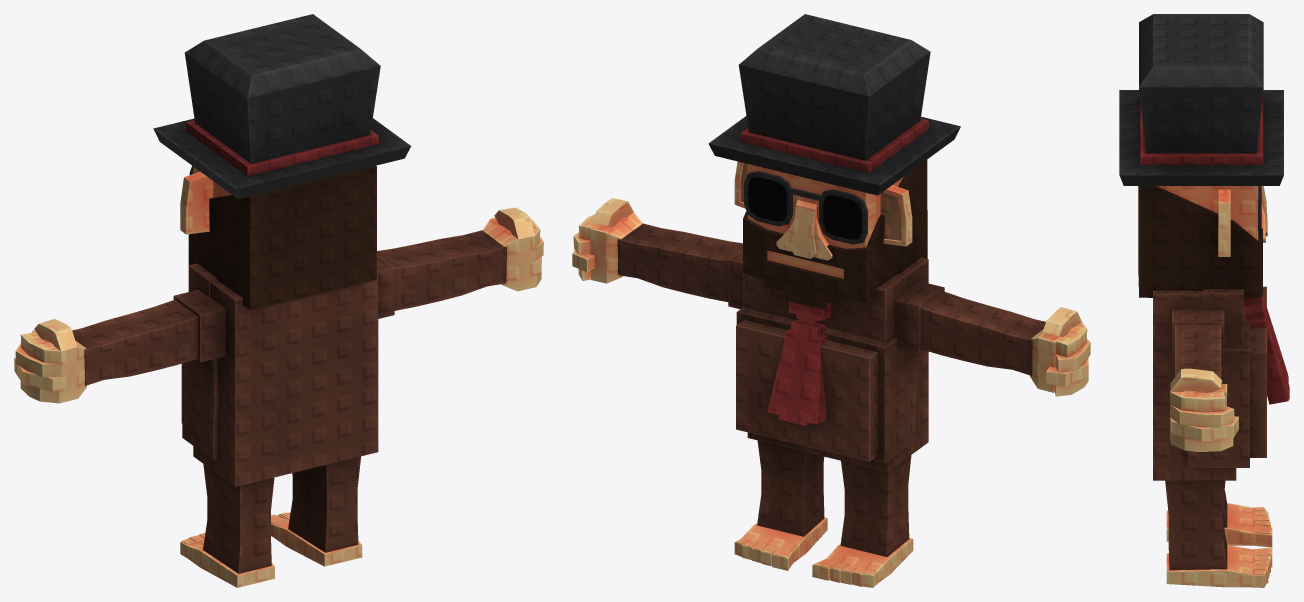
File: Matteo.fbx
The picture shows the model from 3 angles, left to right: view 1: azimuth 30°, elevation 25°; view 2: azimuth 150°, elevation 25°; view 3: azimuth 270°, elevation 25°; orthographic projection. The views are drawn at different scales.
Parts seen in each view (by area): view 1: Matteo; view 2: Matteo; view 3: Matteo.
Part boxes in pixels (x1=…): Matteo: x1=14, y1=14, x2=543, y2=587; Matteo: x1=572, y1=14, x2=1090, y2=587; Matteo: x1=1119, y1=14, x2=1289, y2=587.
Bounding box in the file's own units: 887 × 842 × 253.
